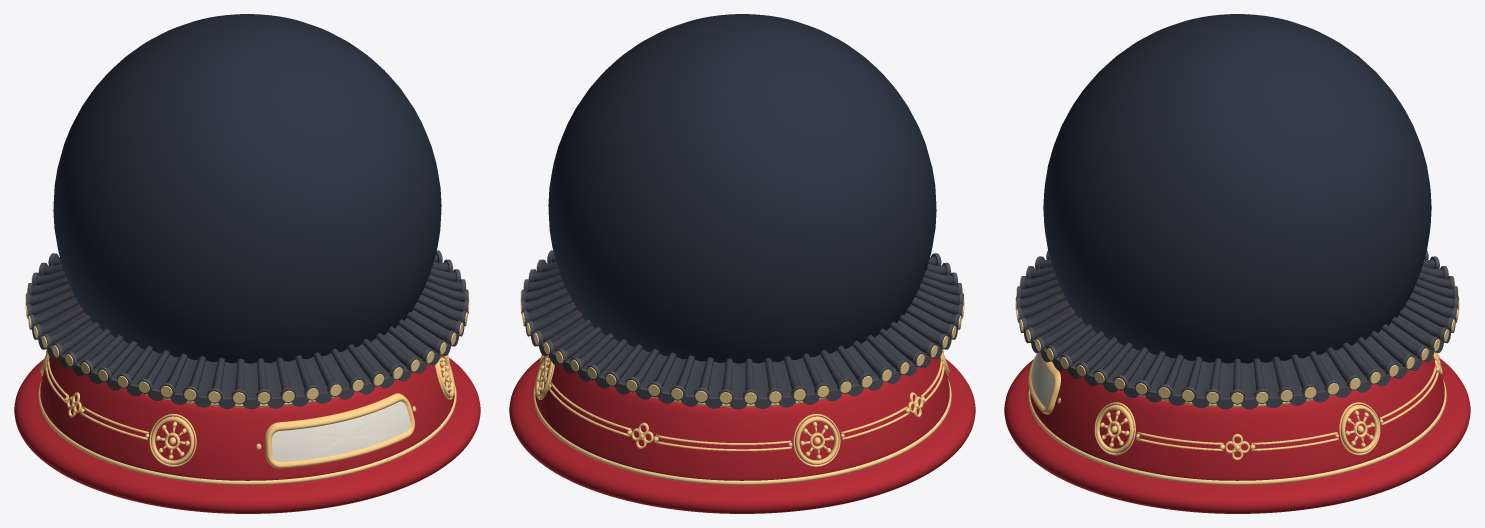
The model's file is newyear.glb.
3 renders of one model, left to right at view 1: azimuth 30°, elevation 25°; view 2: azimuth 150°, elevation 25°; view 3: azimuth 270°, elevation 25°, orthographic.
Visible parts, largest first — view 1: w_Glass_Dome, w_Base_Body, w_Base_Eave, w_Base_Nameplate, w_Base_Relief_newyear, w_Base_NameplateFrame, w_Base_GoldRim_Bottom; view 2: w_Glass_Dome, w_Base_Body, w_Base_Eave, w_Base_Relief_newyear, w_Base_GoldRim_Bottom; view 3: w_Glass_Dome, w_Base_Body, w_Base_Eave, w_Base_Relief_newyear, w_Base_GoldRim_Bottom, w_Base_Nameplate, w_Base_NameplateFrame.
Part boxes in pixels (x1,y1,x2,y2): w_Glass_Dome: (53,14,441,363); w_Base_Body: (14,302,480,513); w_Base_Eave: (25,250,469,409); w_Base_Nameplate: (272,401,410,462); w_Base_Relief_newyear: (40,349,454,466); w_Base_NameplateFrame: (256,393,416,468); w_Base_GoldRim_Bottom: (38,379,456,484); w_Glass_Dome: (548,14,936,363); w_Base_Body: (509,302,975,513); w_Base_Eave: (520,250,964,409); w_Base_Relief_newyear: (535,349,949,466); w_Base_GoldRim_Bottom: (533,379,951,484); w_Glass_Dome: (1043,14,1431,363); w_Base_Body: (1004,301,1470,513); w_Base_Eave: (1015,250,1459,409); w_Base_Relief_newyear: (1094,352,1442,460); w_Base_GoldRim_Bottom: (1028,379,1446,485); w_Base_Nameplate: (1031,352,1054,407); w_Base_NameplateFrame: (1028,353,1060,414).
Size of the model in its own units: 2.4 by 2.2 by 2.4.
